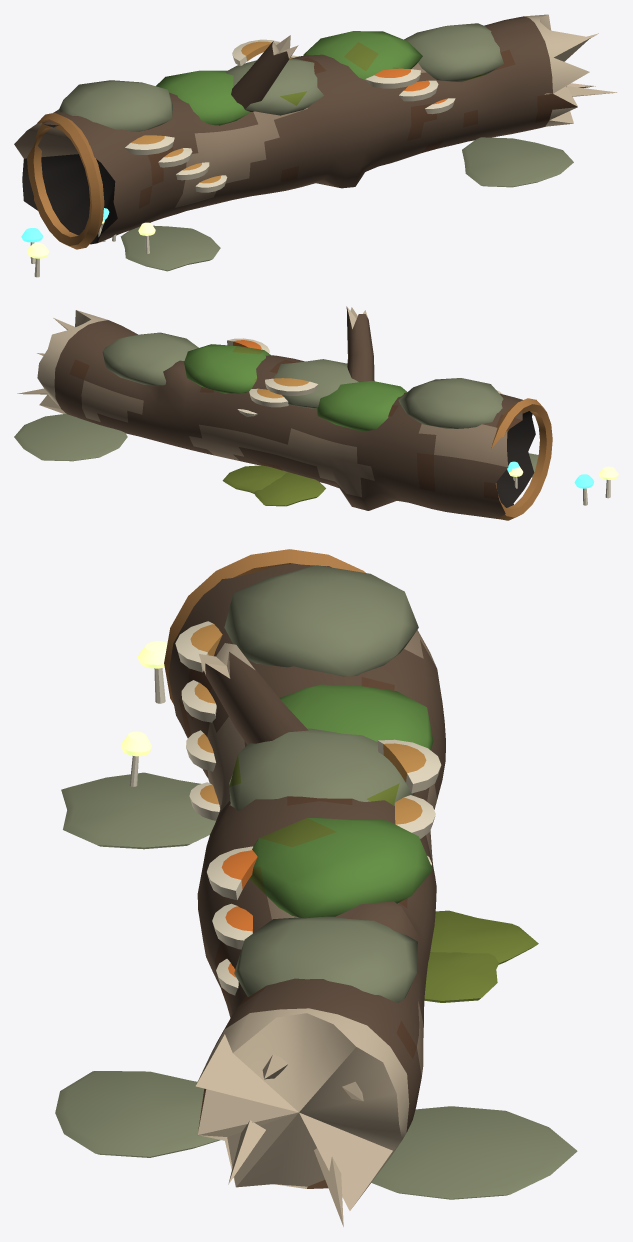
The model's file is deco_fungus_log.fbx.
3 views of the same model, one above another, from view 1: azimuth 30°, elevation 25°; view 2: azimuth 150°, elevation 25°; view 3: azimuth 270°, elevation 25° (orthographic). The views are drawn at different scales.
Parts seen in each view (by area): view 1: FungusLog_Log, FungusLog_Moss, FungusLog_Fungus; view 2: FungusLog_Log, FungusLog_Moss, FungusLog_Fungus; view 3: FungusLog_Moss, FungusLog_Log, FungusLog_Fungus.
Part boxes in pixels (box(x1,y1,x2,y2)): FungusLog_Log: box(14, 14, 617, 249); FungusLog_Moss: box(57, 23, 573, 271); FungusLog_Fungus: box(21, 39, 455, 277); FungusLog_Log: box(17, 306, 552, 520); FungusLog_Moss: box(14, 332, 538, 506); FungusLog_Fungus: box(227, 338, 618, 505); FungusLog_Moss: box(55, 565, 577, 1199); FungusLog_Log: box(164, 549, 445, 1226); FungusLog_Fungus: box(121, 621, 441, 995).
Size of the model in its own units: 380 by 101 by 155.
